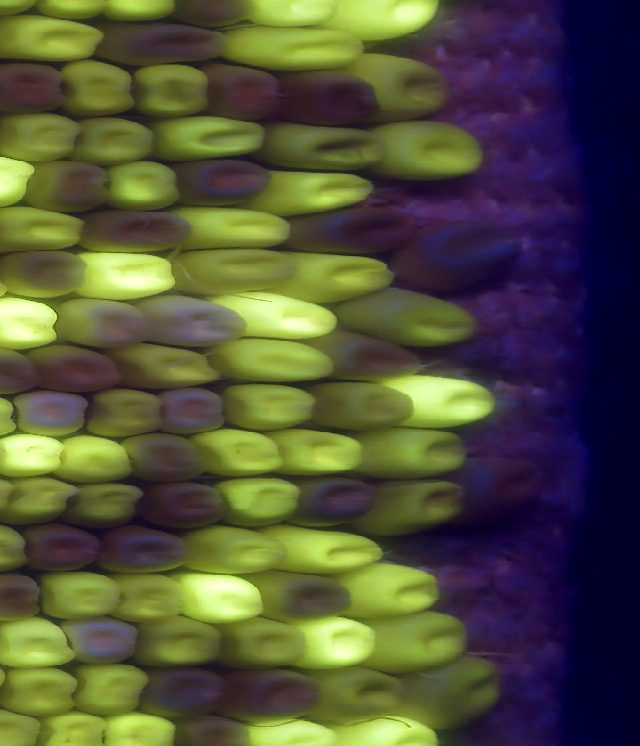fluorescent: (329, 274, 479, 352), (370, 116, 489, 184), (263, 119, 392, 179), (355, 473, 464, 543), (383, 372, 504, 435), (348, 50, 450, 121), (252, 165, 380, 221), (219, 25, 369, 72), (218, 285, 336, 342), (404, 666, 503, 733), (363, 610, 468, 673), (209, 336, 338, 384), (269, 520, 381, 575), (181, 523, 294, 577), (357, 423, 472, 476), (130, 616, 235, 673), (77, 250, 181, 307), (179, 200, 297, 250), (174, 247, 294, 296), (311, 667, 403, 730), (286, 611, 375, 676), (212, 471, 302, 534), (326, 1, 444, 49), (0, 14, 105, 67), (282, 249, 393, 299), (339, 566, 442, 618), (117, 343, 220, 393), (150, 113, 266, 157), (225, 381, 321, 434), (176, 573, 264, 627), (0, 110, 82, 167), (0, 663, 79, 721), (73, 661, 148, 721), (69, 475, 143, 535), (225, 618, 310, 670), (192, 428, 282, 477), (71, 114, 157, 164), (114, 573, 196, 625), (134, 62, 210, 118), (0, 617, 83, 668), (62, 58, 134, 116), (281, 428, 366, 477), (104, 159, 182, 212), (0, 207, 86, 253), (0, 293, 64, 352), (40, 575, 124, 618), (59, 433, 134, 479), (3, 476, 71, 525), (0, 432, 64, 481), (240, 1, 342, 31), (240, 720, 339, 746), (102, 713, 180, 746), (345, 719, 438, 746), (36, 713, 109, 746), (0, 153, 37, 214), (0, 522, 31, 578), (102, 1, 177, 24), (0, 710, 40, 746)
nonfluorescent: (403, 220, 525, 296), (273, 68, 387, 137), (288, 203, 418, 263), (448, 452, 546, 528), (195, 56, 283, 129), (93, 18, 235, 63), (221, 666, 323, 724), (142, 296, 253, 349), (323, 330, 427, 386), (28, 156, 121, 217), (53, 295, 150, 353), (87, 209, 201, 258), (27, 346, 133, 396), (0, 251, 93, 306), (265, 572, 358, 625), (154, 385, 236, 445), (143, 479, 235, 532), (101, 523, 193, 575), (7, 384, 93, 438), (179, 158, 273, 207), (119, 432, 206, 483), (291, 478, 378, 529), (143, 667, 226, 720), (0, 61, 73, 118), (23, 524, 104, 574), (63, 618, 143, 667), (169, 713, 252, 746), (0, 574, 42, 623), (0, 347, 39, 394)
